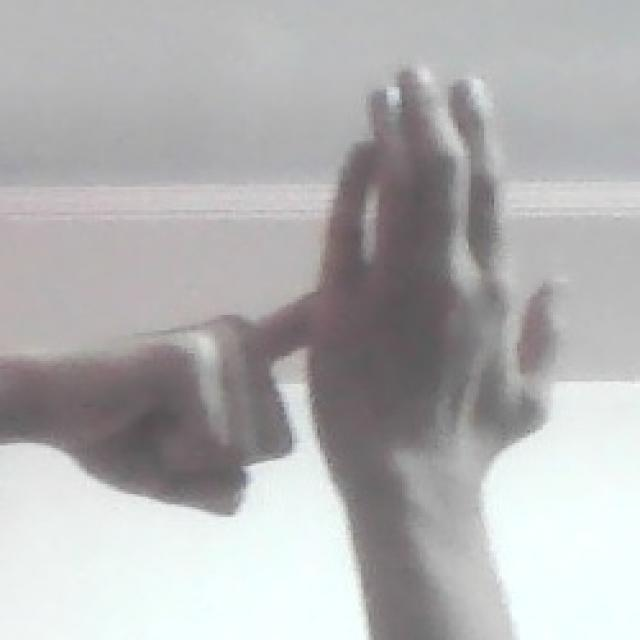Alphabet-R: (48, 57, 586, 531)
